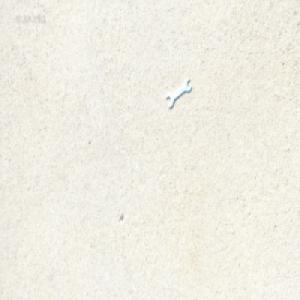Wrench: (166, 81, 189, 109)
